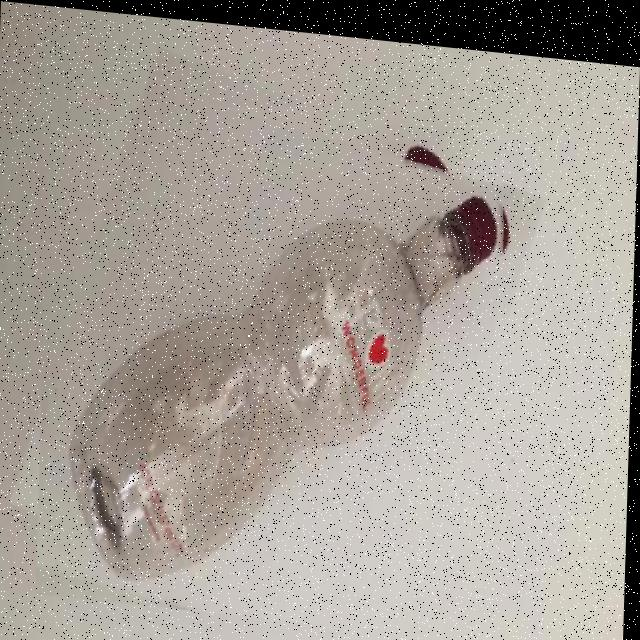litter: (38, 56, 519, 630), (393, 114, 478, 218)
